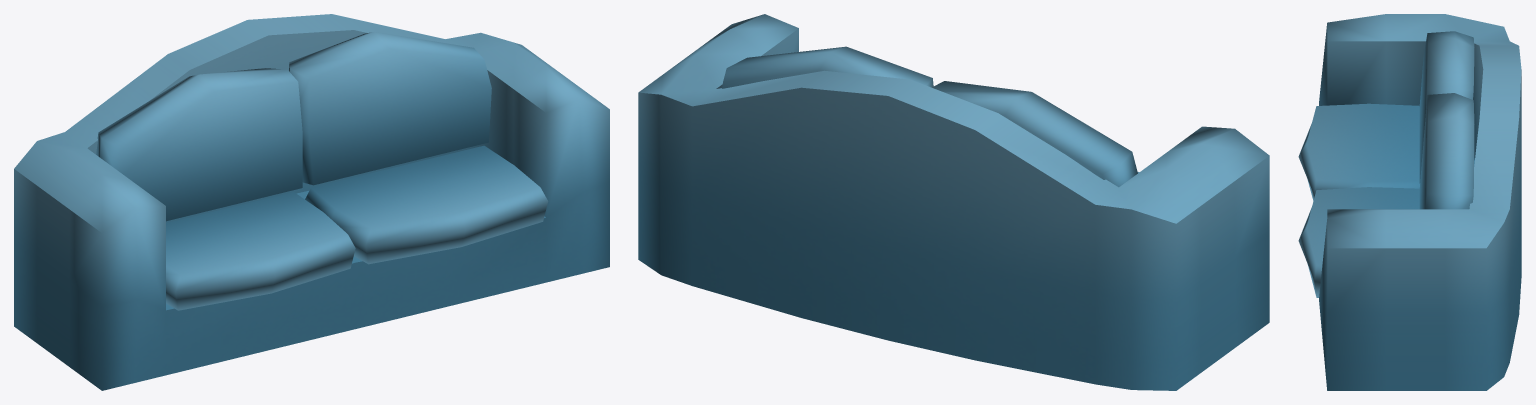
Rendered from Prop_Couch02.fbx.
3 views of the same model, side by side, from view 1: azimuth 30°, elevation 25°; view 2: azimuth 150°, elevation 25°; view 3: azimuth 270°, elevation 25° (orthographic). The views are drawn at different scales.
Visible parts, largest first — view 1: Prop_CouchFrame, Prop_CouchCusion04, Prop_CouchCusion03, Prop_CouchCusion02, Prop_CouchCusion01; view 2: Prop_CouchFrame, Prop_CouchCusion03, Prop_CouchCusion04; view 3: Prop_CouchFrame, Prop_CouchCusion01, Prop_CouchCusion04, Prop_CouchCusion02, Prop_CouchCusion03.
Part boxes in pixels (<box>): Prop_CouchFrame: <box>14,14,609,390</box>; Prop_CouchCusion04: <box>289,31,491,185</box>; Prop_CouchCusion03: <box>96,68,302,221</box>; Prop_CouchCusion02: <box>305,145,548,264</box>; Prop_CouchCusion01: <box>166,192,355,310</box>; Prop_CouchFrame: <box>638,14,1269,390</box>; Prop_CouchCusion03: <box>932,81,1137,187</box>; Prop_CouchCusion04: <box>722,46,933,88</box>; Prop_CouchFrame: <box>1319,14,1521,390</box>; Prop_CouchCusion01: <box>1298,103,1419,200</box>; Prop_CouchCusion04: <box>1419,93,1474,209</box>; Prop_CouchCusion02: <box>1298,187,1419,297</box>; Prop_CouchCusion03: <box>1419,31,1474,183</box>.
Bounding box in the file's own units: 600 × 261 × 252.
